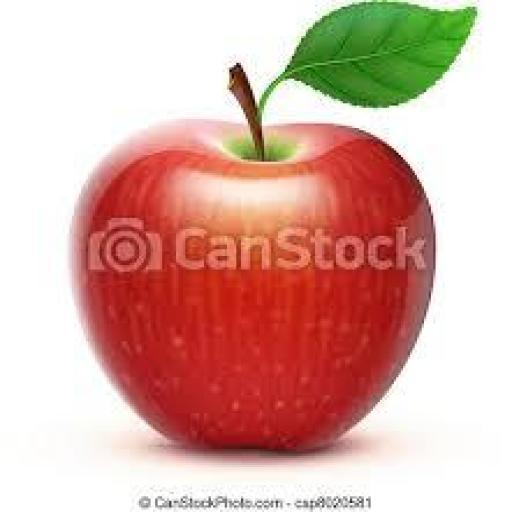apple: (75, 122, 435, 449)
